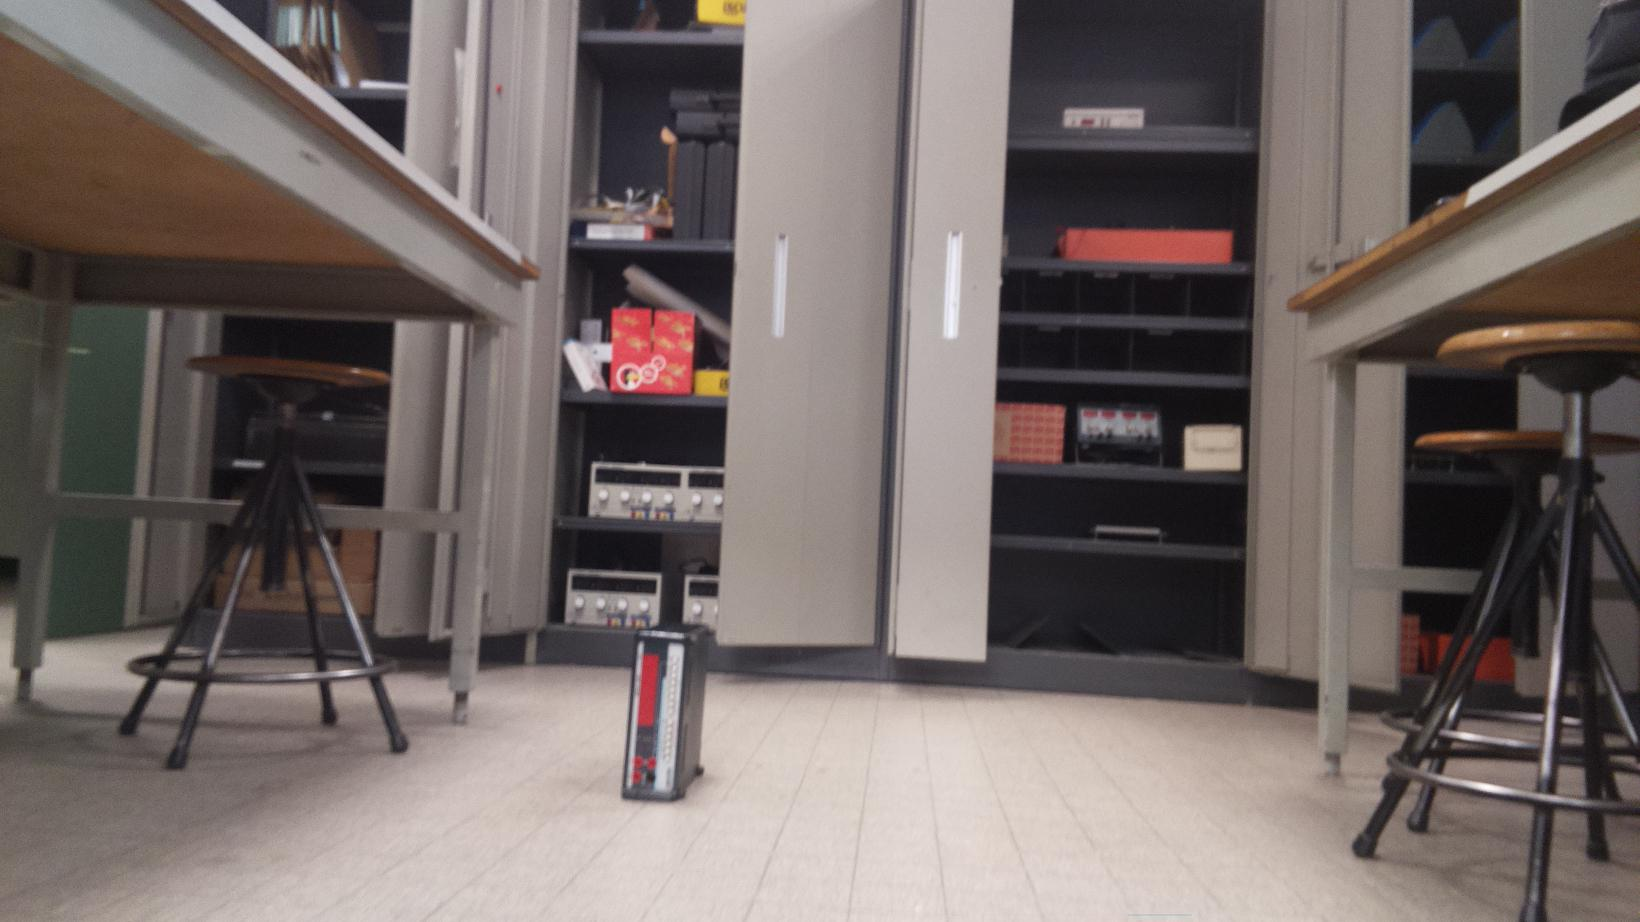medium: (621, 618, 707, 804)
